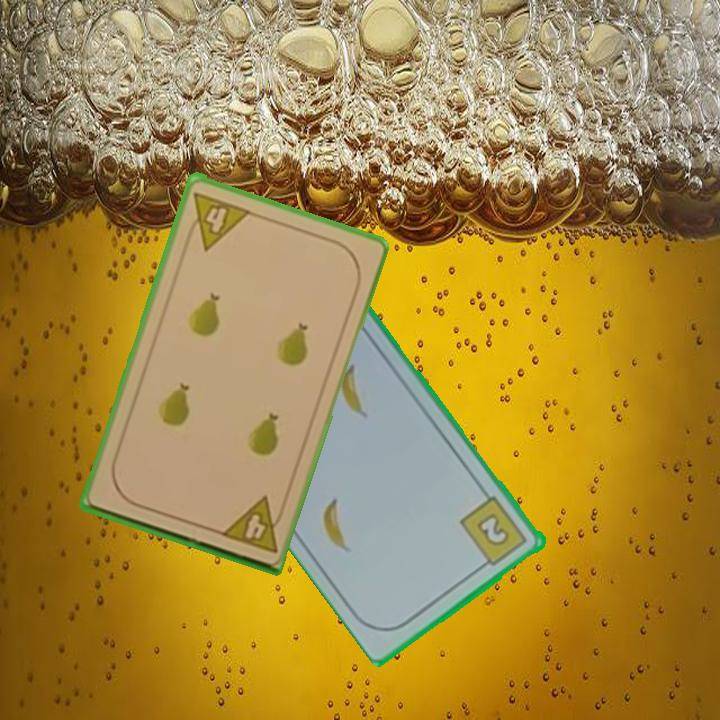2b: (457, 492, 531, 572)
4p: (181, 188, 254, 252), (216, 492, 289, 556)
